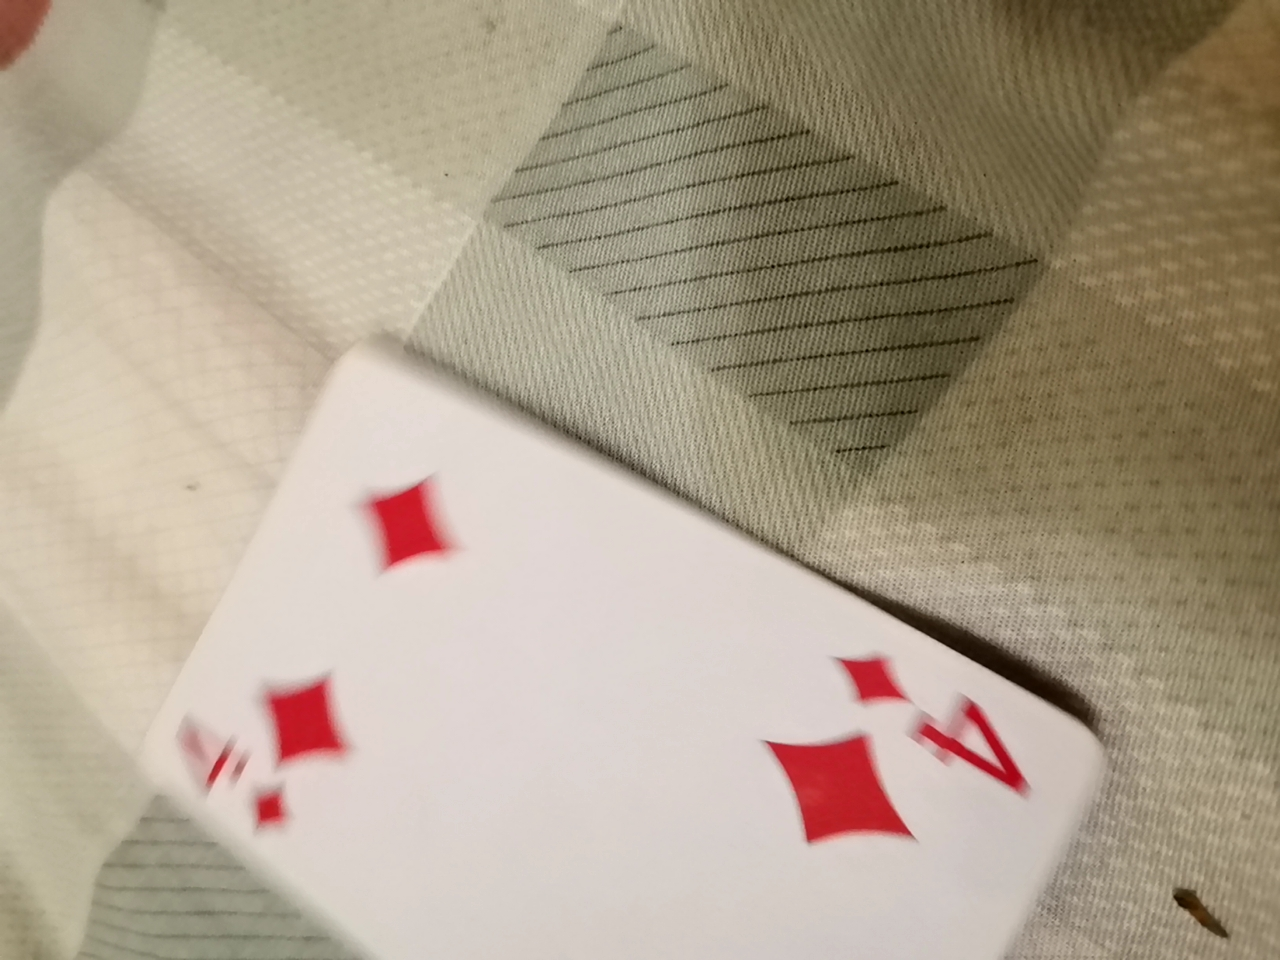fk 4: (128, 321, 1098, 945)
